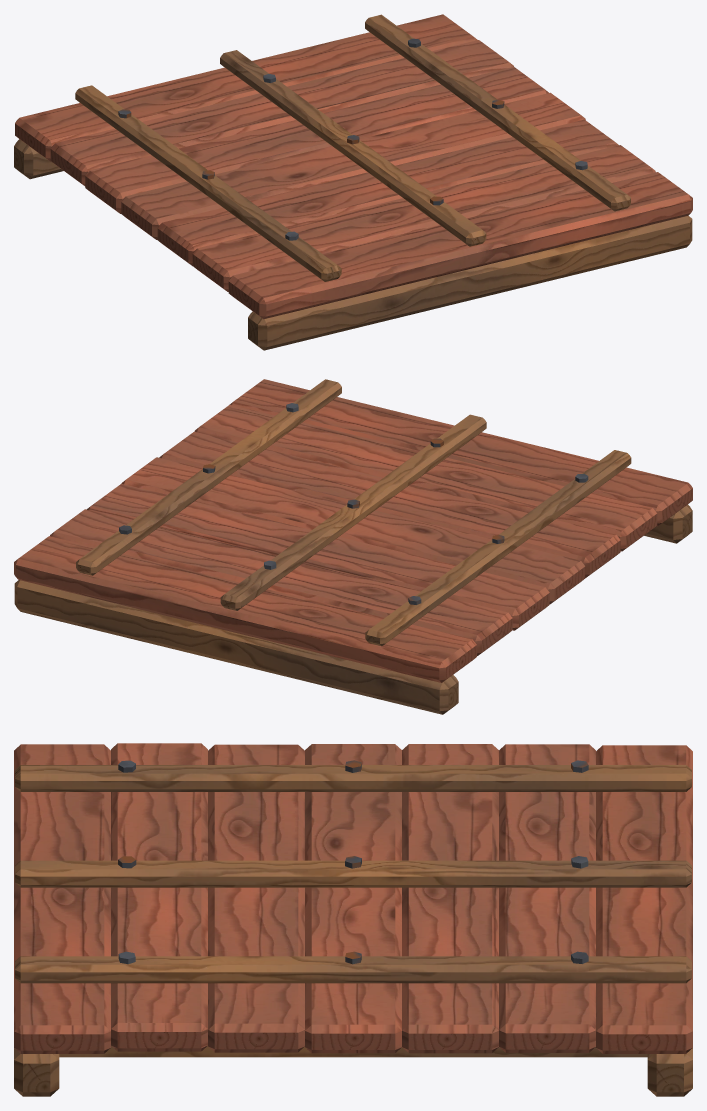
The model's file is duz_cati.glb.
The picture shows the model from 3 angles, top to bottom: view 1: azimuth 30°, elevation 25°; view 2: azimuth 150°, elevation 25°; view 3: azimuth 270°, elevation 25°; orthographic projection. The views are drawn at different scales.
Visible parts, largest first — view 1: duz_cati; view 2: duz_cati; view 3: duz_cati.
Part boxes in pixels (<box>): duz_cati: <box>14,14,692,350</box>; duz_cati: <box>14,379,692,714</box>; duz_cati: <box>14,743,692,1096</box>.
Bounding box in the file's own units: 3 × 0.475 × 3.
1 material, 1 textured.
